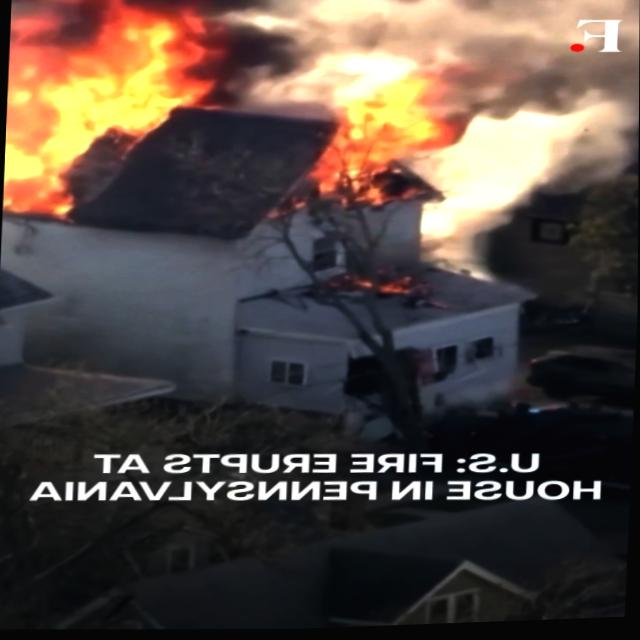Fire: (5, 0, 257, 232), (290, 75, 468, 228)
Smoke: (420, 48, 640, 267), (251, 0, 560, 131)
